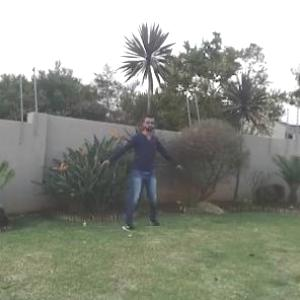land: (71, 98, 191, 246)
